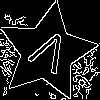V: (22, 27, 74, 84)
